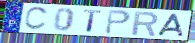0: (54, 7, 77, 33)
A: (157, 13, 186, 38)
C: (23, 6, 51, 31)
P: (103, 9, 132, 36)
R: (130, 10, 160, 37)
T: (82, 9, 103, 34)
